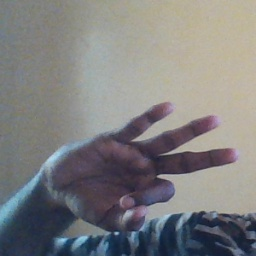K: (45, 99, 240, 232)
